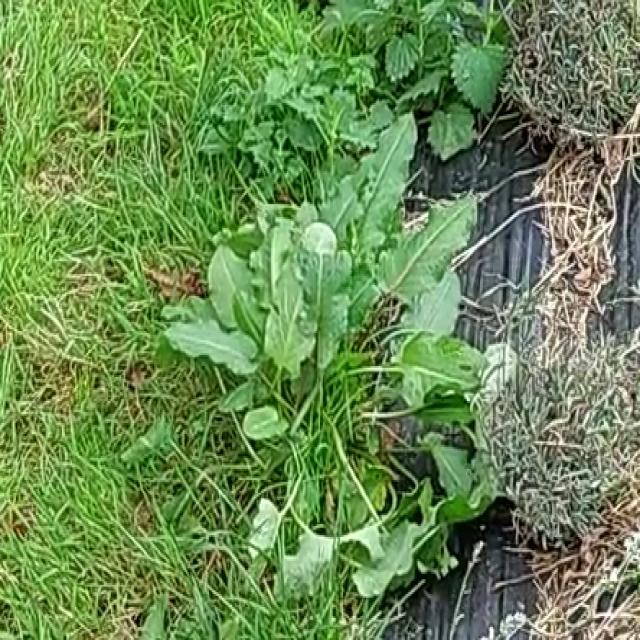organic waste: (187, 96, 509, 533)
